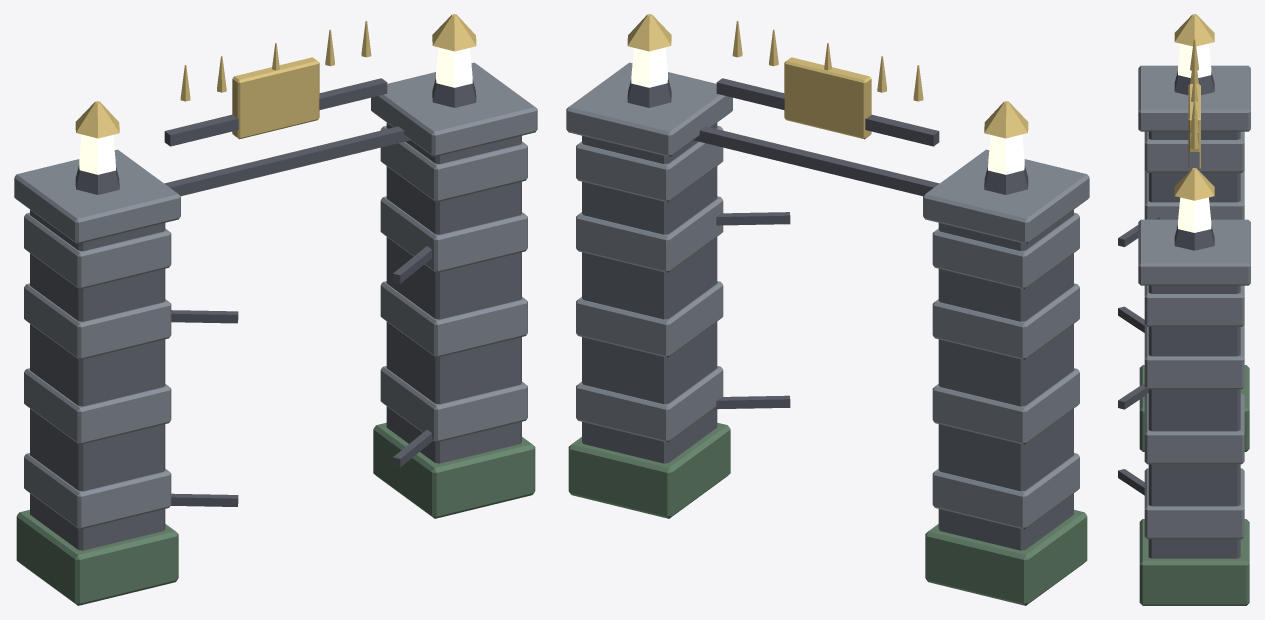
Rendered from outdoor_gate.glb.
3 renders of one model, left to right at view 1: azimuth 30°, elevation 25°; view 2: azimuth 150°, elevation 25°; view 3: azimuth 270°, elevation 25°, orthographic. The views are drawn at different scales.
Parts seen in each view (by area): view 1: Outdoor_Gate; view 2: Outdoor_Gate; view 3: Outdoor_Gate.
Boxes of the visible parts, bbox=[...] form: Outdoor_Gate: bbox=[14, 14, 537, 605]; Outdoor_Gate: bbox=[566, 14, 1089, 605]; Outdoor_Gate: bbox=[1118, 14, 1250, 605].
Size of the model in its own units: 4.8 by 4.82 by 1.35.
